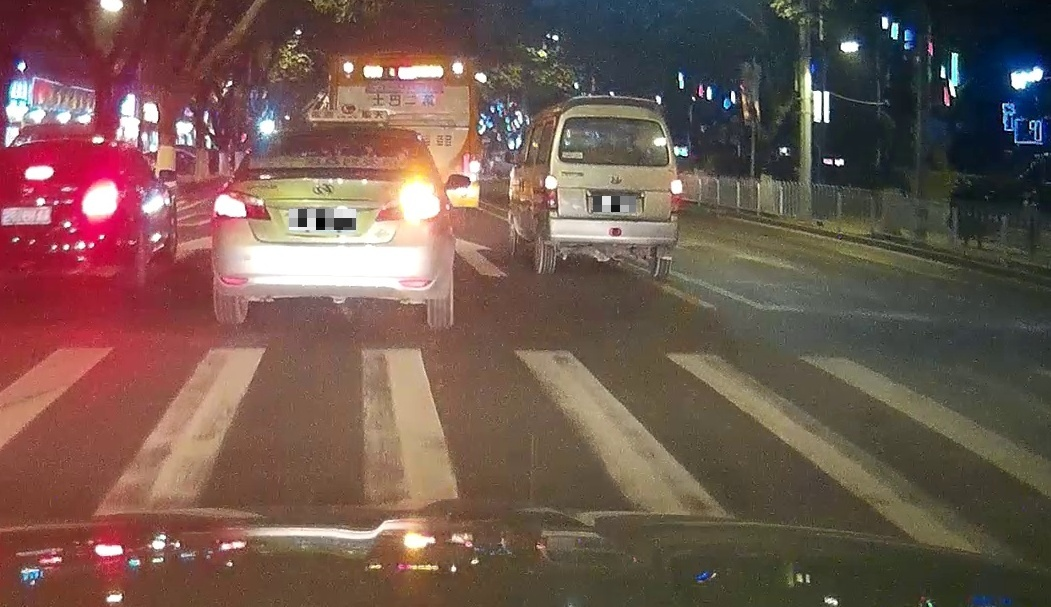L_light: (211, 191, 270, 221), (543, 175, 558, 210)
R_light: (374, 193, 441, 222), (669, 179, 681, 215)
T_light: (322, 132, 351, 139), (603, 116, 630, 122)
night-no: (211, 122, 452, 329), (542, 96, 682, 279)
plate_1: (289, 209, 356, 230)
plate_2: (593, 196, 636, 212)
